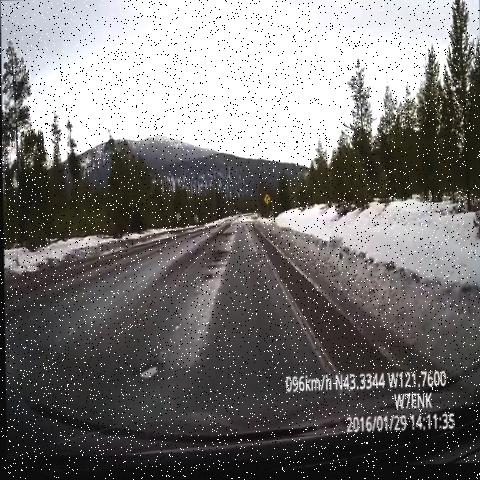pothole: (128, 355, 161, 396), (168, 313, 189, 341), (206, 251, 231, 274), (202, 258, 217, 294), (221, 230, 239, 250), (252, 257, 267, 273)
